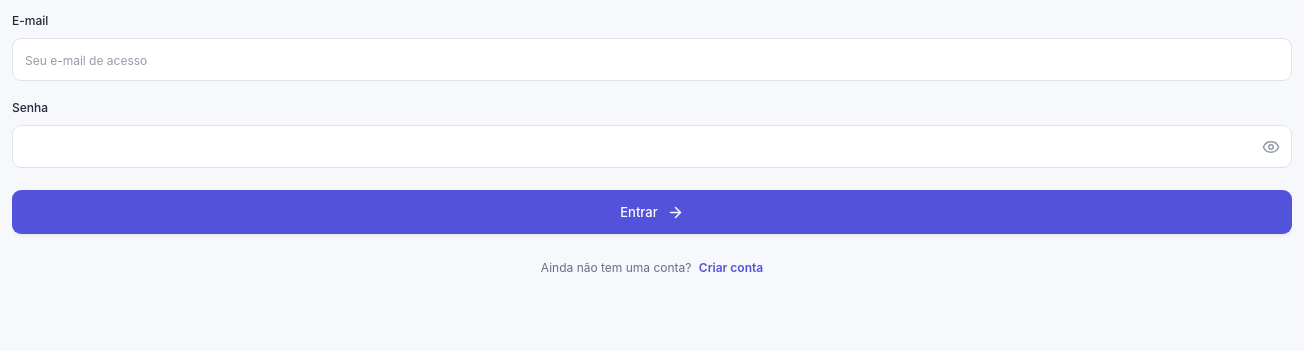
Test: Formulários e sessão › exibe erro acessível e permite tentar novamente: HTTP 401
Type "synthetic@example.test" into the field labelled "E-mail" at (652, 60), box [12,38,1292,81]
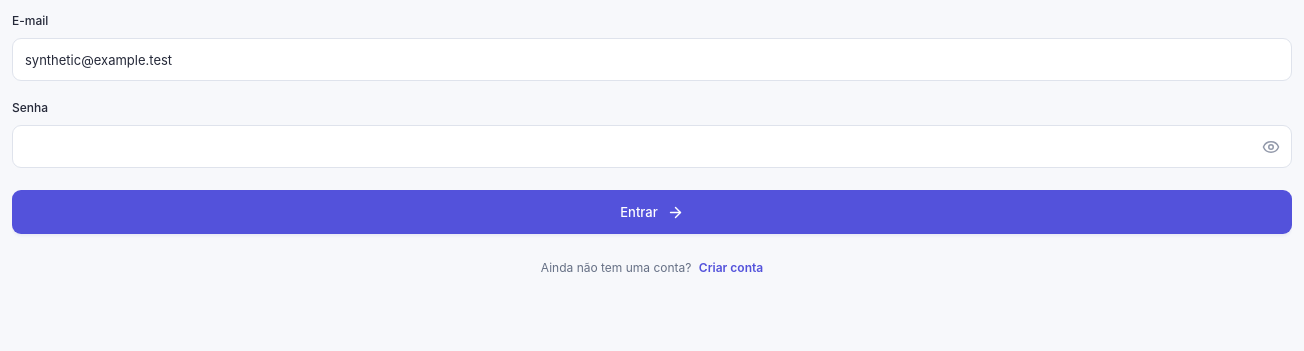
Type "synthetic password for tests" into the password field labelled "Senha" at (652, 146), box [12,125,1292,168]
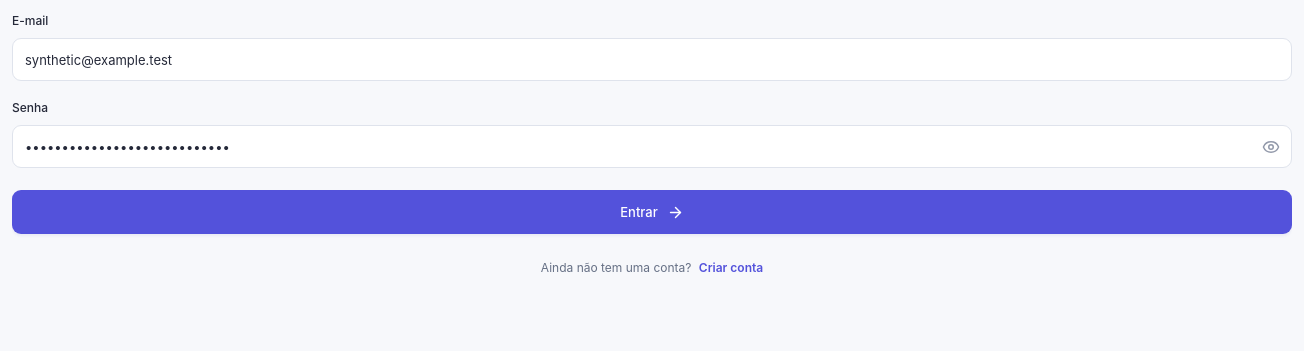
Click the button "Entrar" at (652, 212), box [12,190,1292,234]
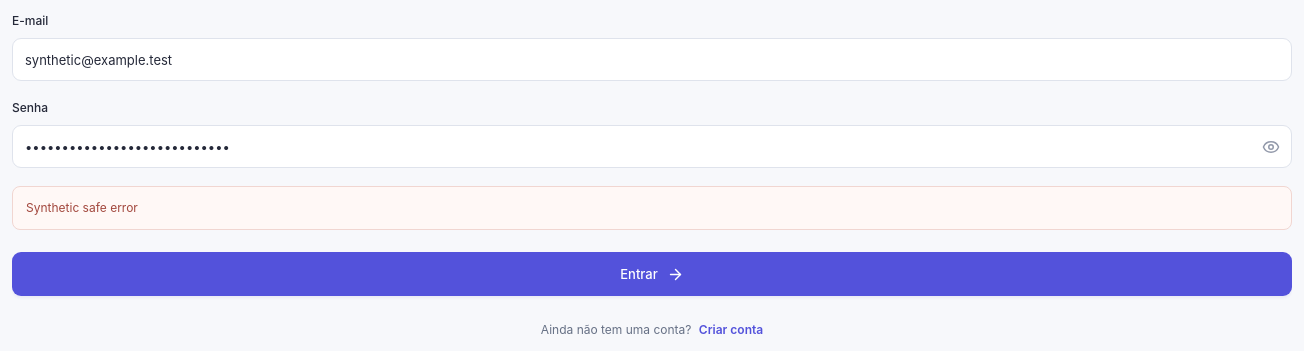
Check: the button "Entrar" is enabled, box [12,252,1292,296]
Check: the message reads "Synthetic safe error", box [26,200,138,215]
